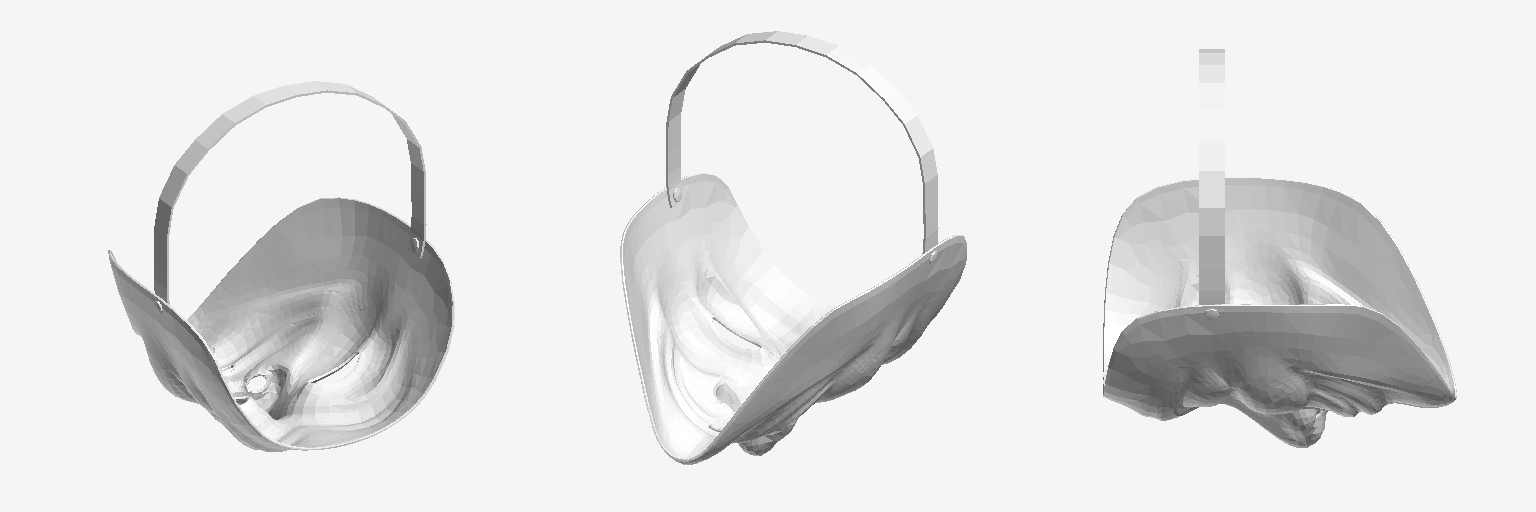
File: Guy_Fawkes_Mask_max_convert.obj
3 renders of one model, left to right at view 1: azimuth 30°, elevation 25°; view 2: azimuth 150°, elevation 25°; view 3: azimuth 270°, elevation 25°, orthographic.
Visible parts, largest first — view 1: Mask_Low_pivot, Strap_pivot; view 2: Mask_Low_pivot, Strap_pivot; view 3: Mask_Low_pivot, Strap_pivot.
Boxes of the visible parts, <box> form: Mask_Low_pivot: <box>108,197,454,451</box>; Strap_pivot: <box>154,81,426,304</box>; Mask_Low_pivot: <box>620,173,966,464</box>; Strap_pivot: <box>666,31,938,253</box>; Mask_Low_pivot: <box>1103,176,1456,447</box>; Strap_pivot: <box>1199,49,1224,304</box>.
Bounding box in the file's own units: 17.16 × 23.42 × 19.73.